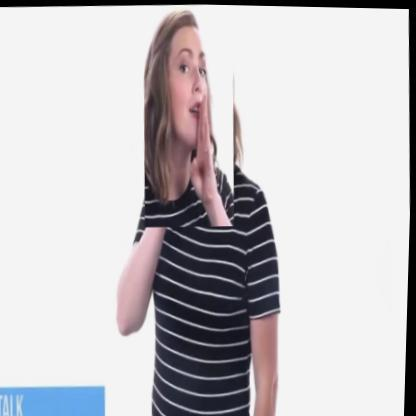Talk: (138, 2, 240, 228)
